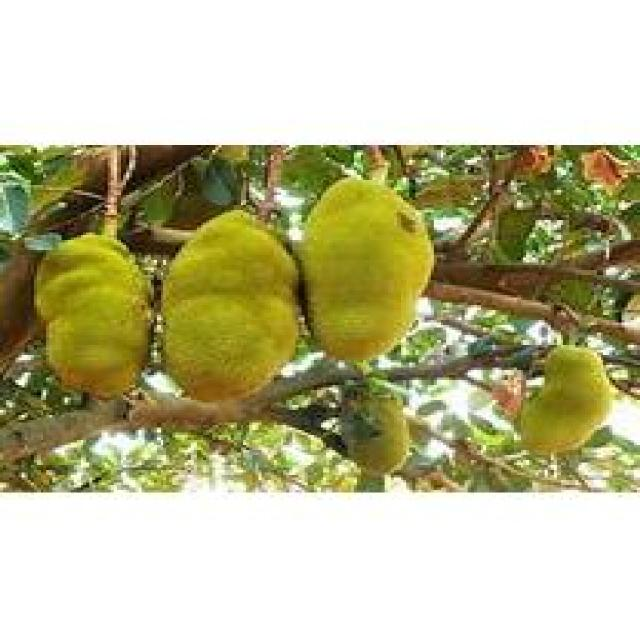Fruit: (139, 198, 323, 430), (283, 160, 452, 382), (12, 218, 170, 420), (486, 330, 637, 472)
